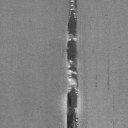slag inclusion: (66, 0, 78, 128)
